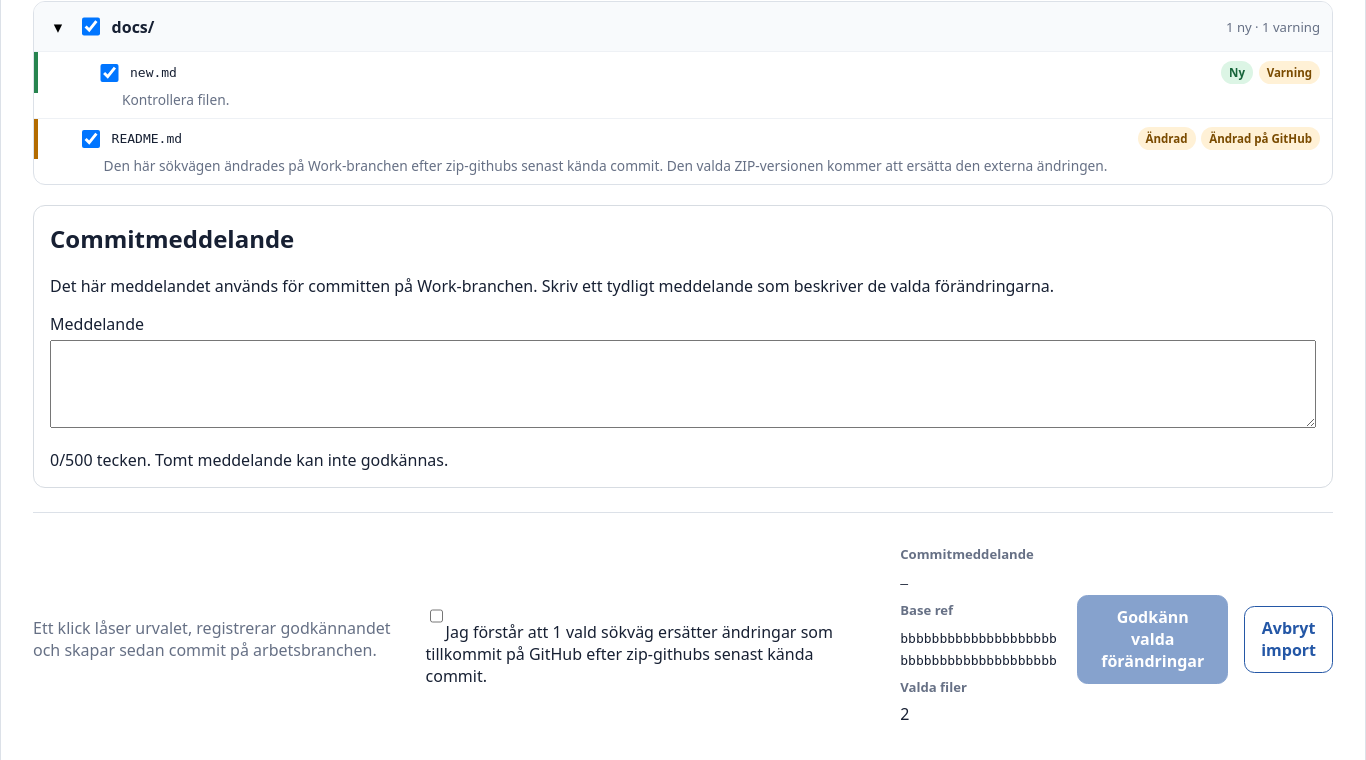
it: ImportReviewPage › warns when the ZIP overlaps changes made on the Work branch after the last zip-github commit
(page scrolled)
Expected: the text "Ändrad på GitHub" is shown, [1201,128,1320,150]
Expected: the button "Godkänn valda förändringar" is disabled, [1077,595,1228,684]
Type "Preserve reviewed external changes" into the text box labelled "Meddelande".
click(683, 384); type("Preserve reviewed external changes")  # box [50,340,1316,428]
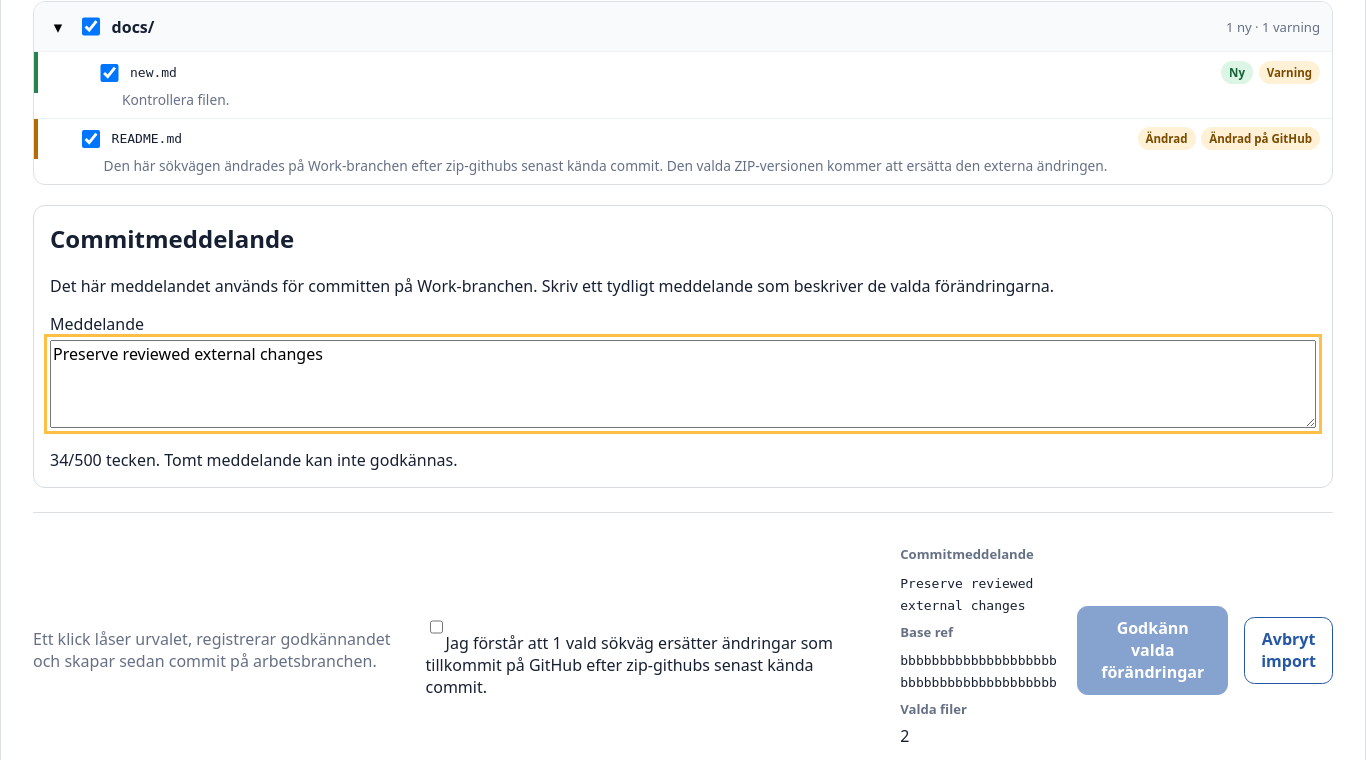
Expected: the button "Godkänn valda förändringar" is disabled, [1077,606,1228,695]
Click the checkbox labelled "Jag förstår att 1 vald sökväg ersätter ändringar".
click(436, 627)  # box [430,605,442,649]
(page scrolled)
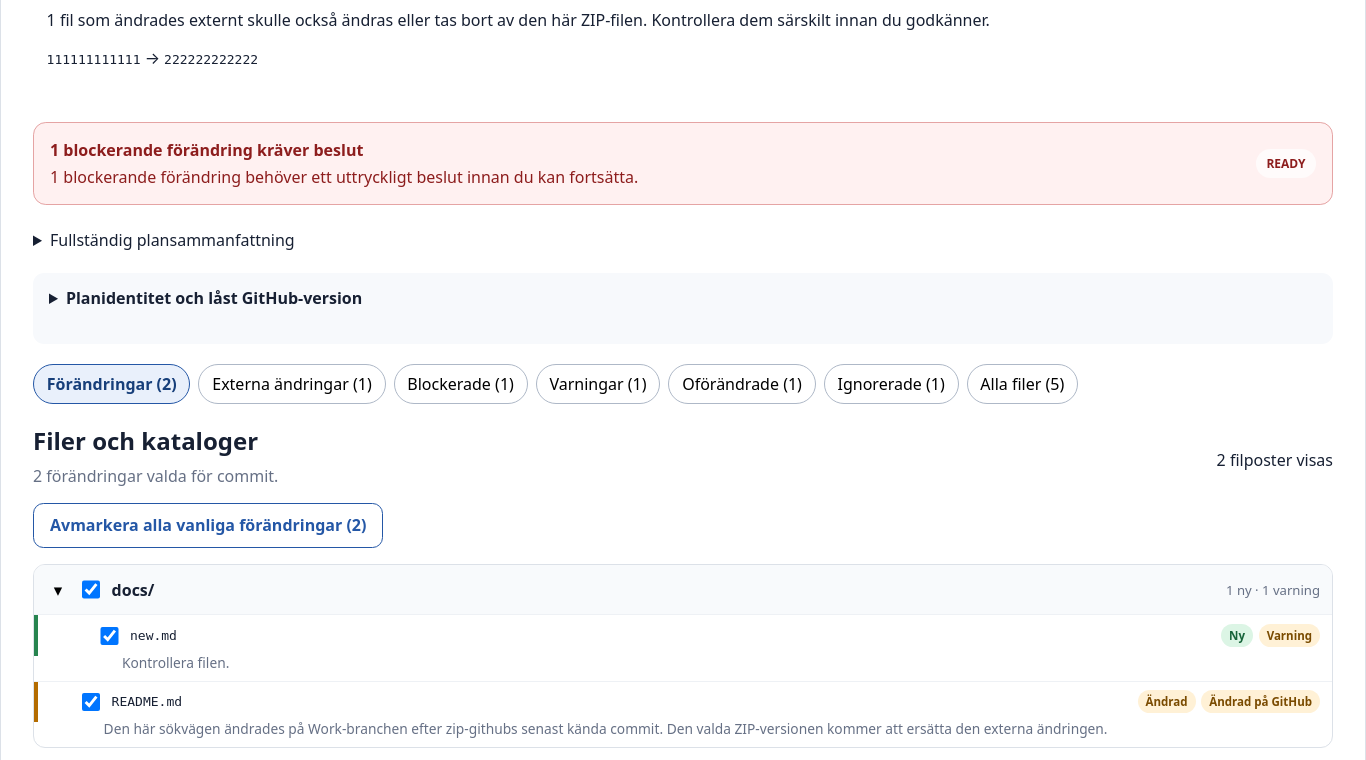
Click the button "Blockerade (1)".
click(461, 384)  # box [394,364,528,404]
(page scrolled)
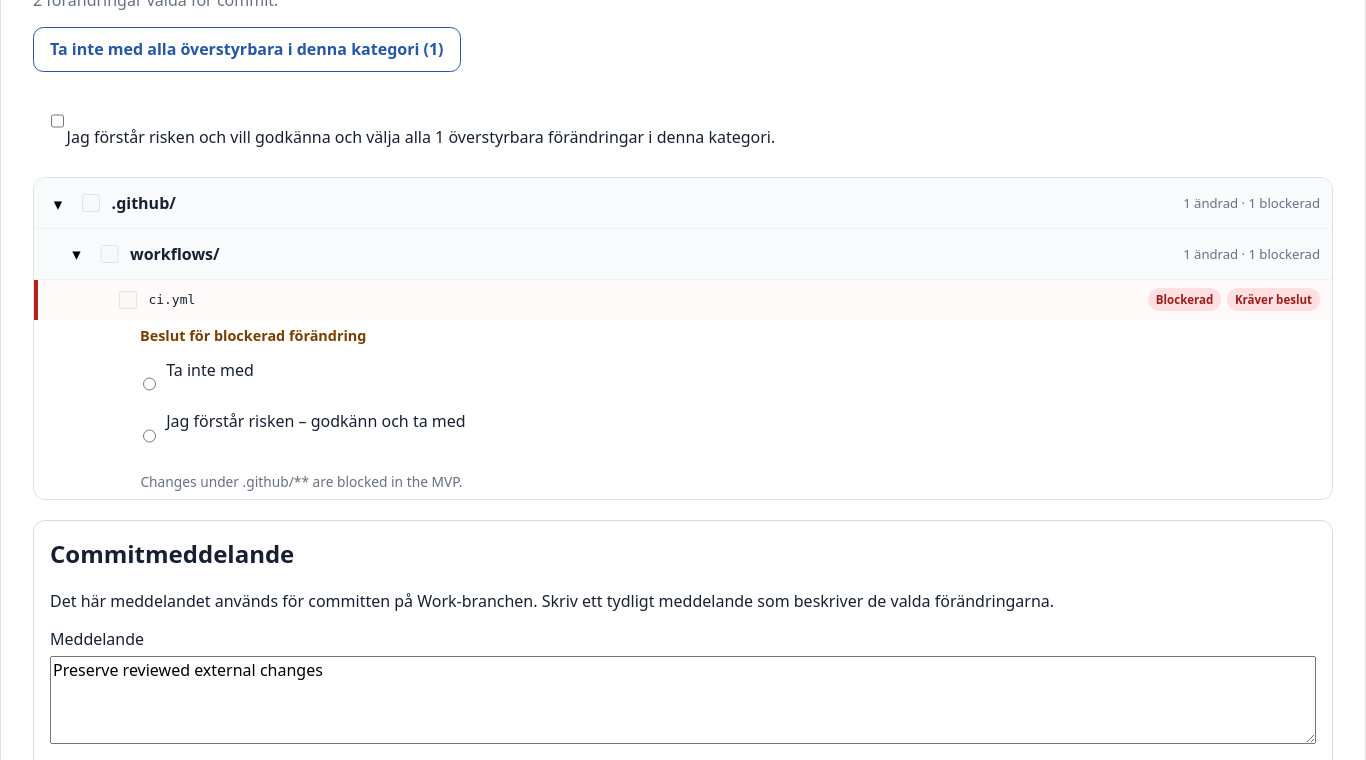
Click the radio button labelled "Ta inte med".
click(150, 384)  # box [143,362,156,406]
(page scrolled)
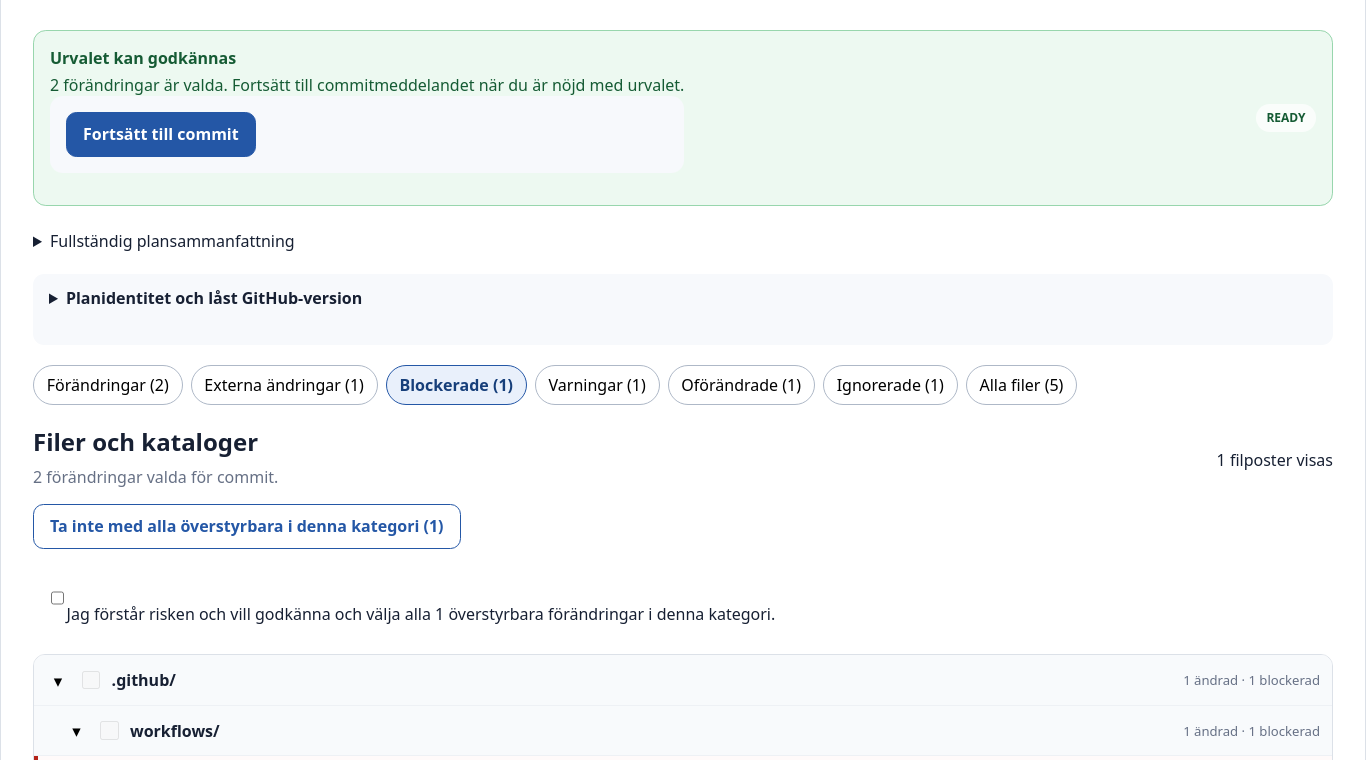
Click the button "Externa ändringar (1)".
click(284, 385)  # box [191,365,378,405]
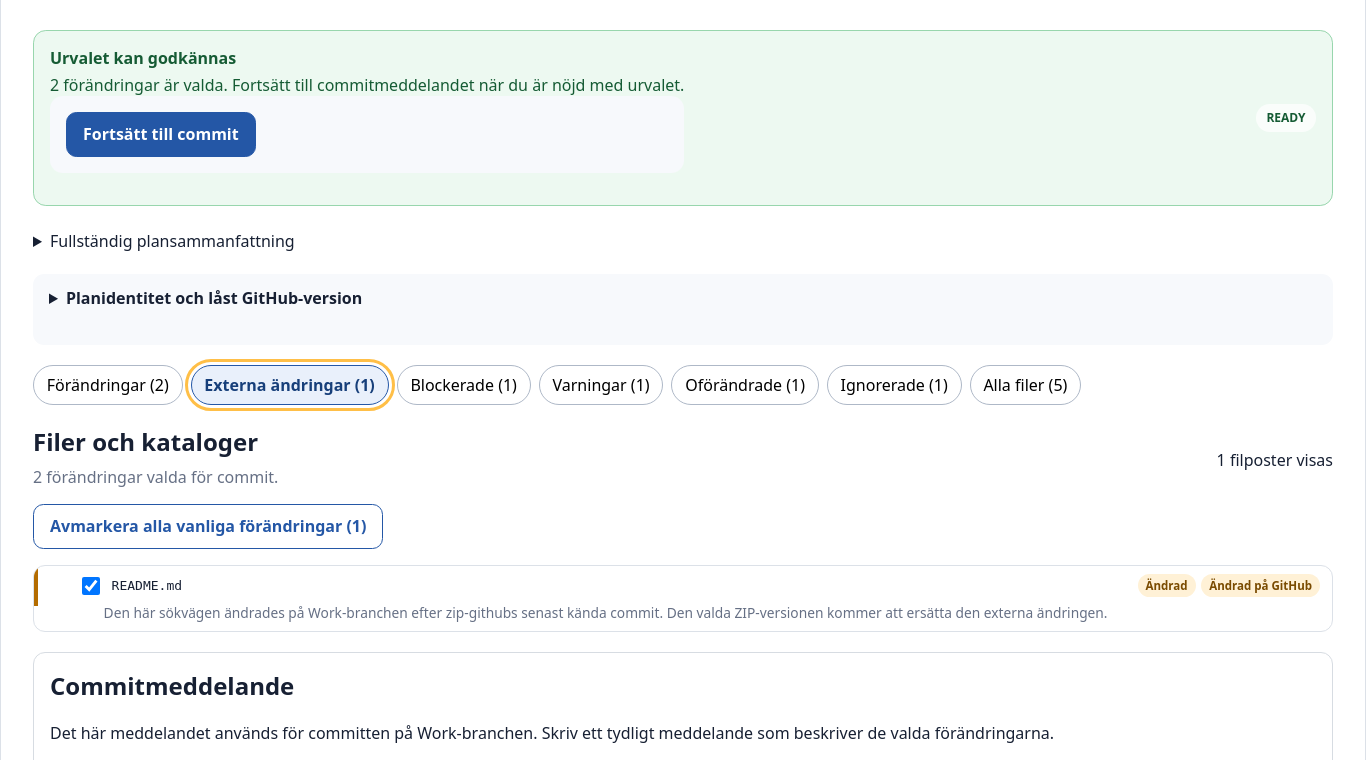
Expected: the text "README.md" is shown, [112,578,182,594]
